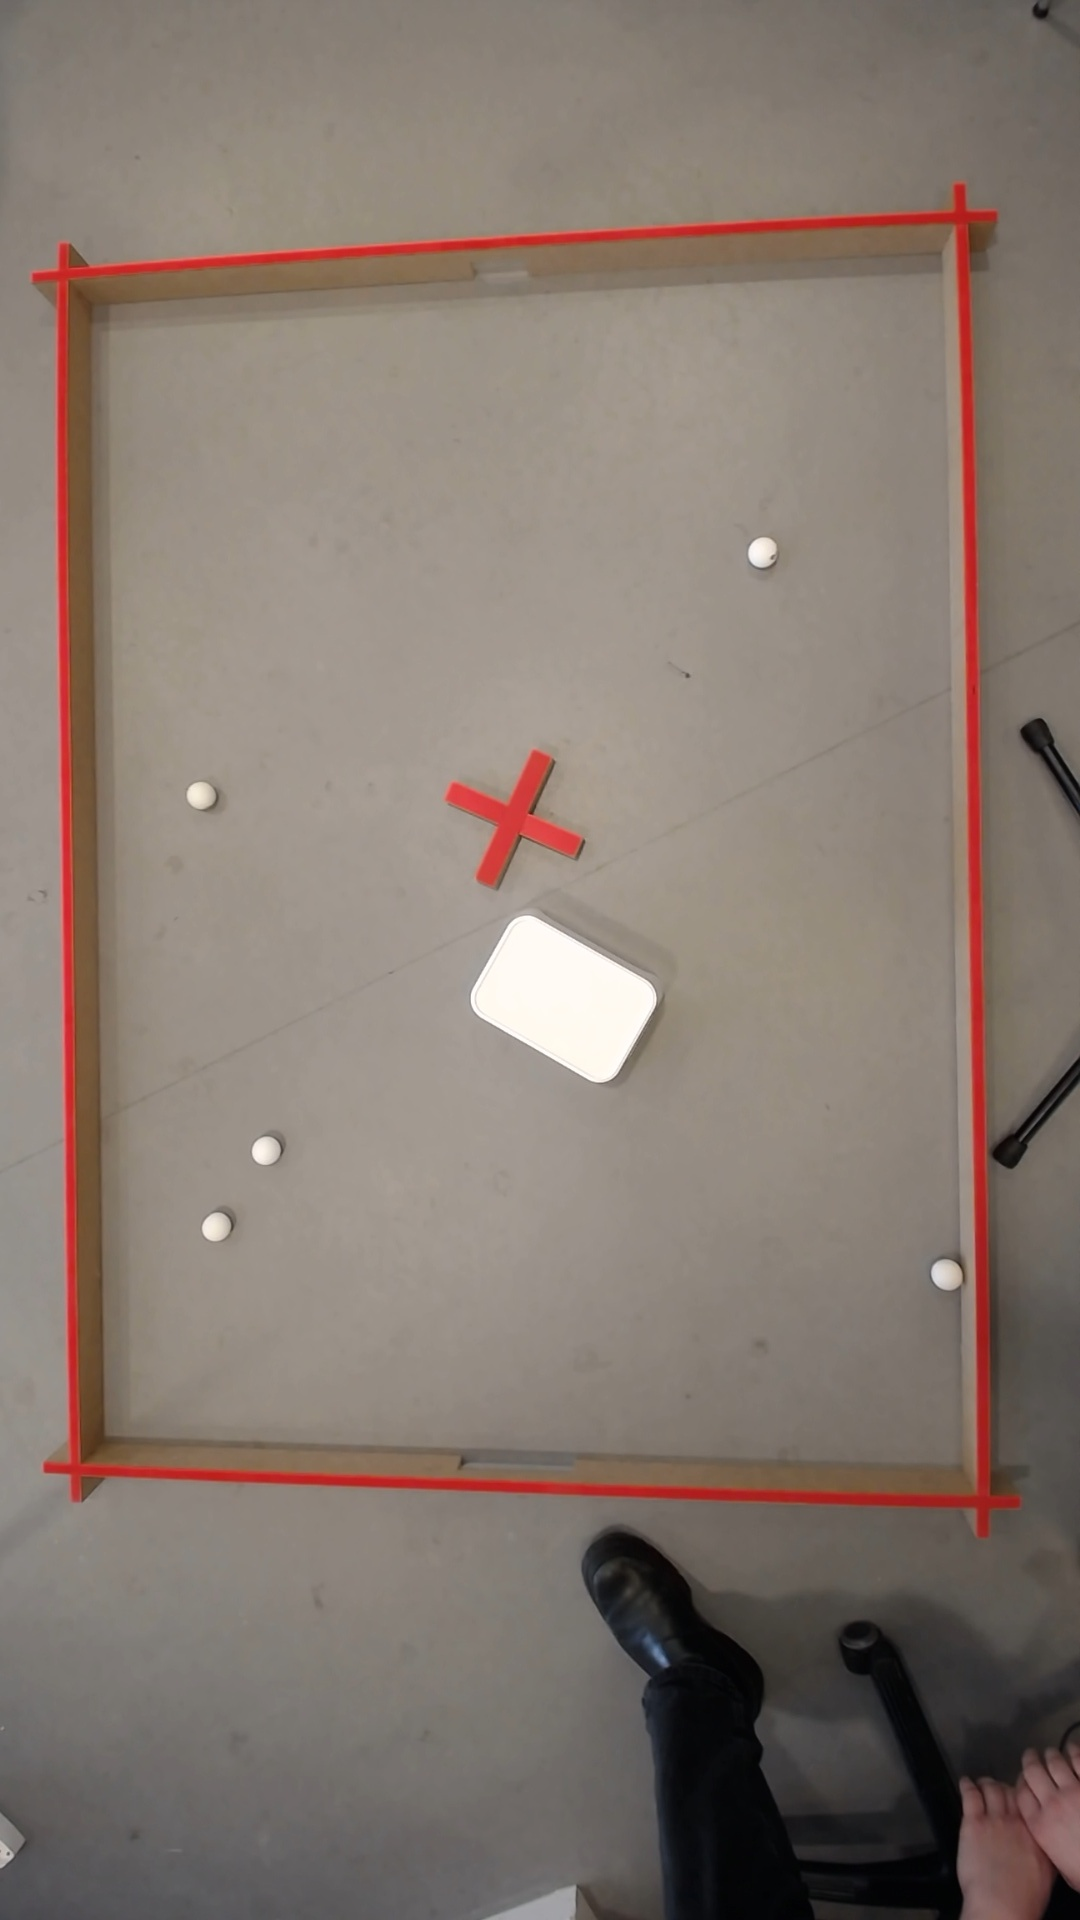balls: (460, 905, 665, 1091), (742, 531, 778, 570), (924, 1257, 959, 1290), (247, 1134, 278, 1167), (198, 1211, 228, 1242)
car: (182, 779, 211, 808)
